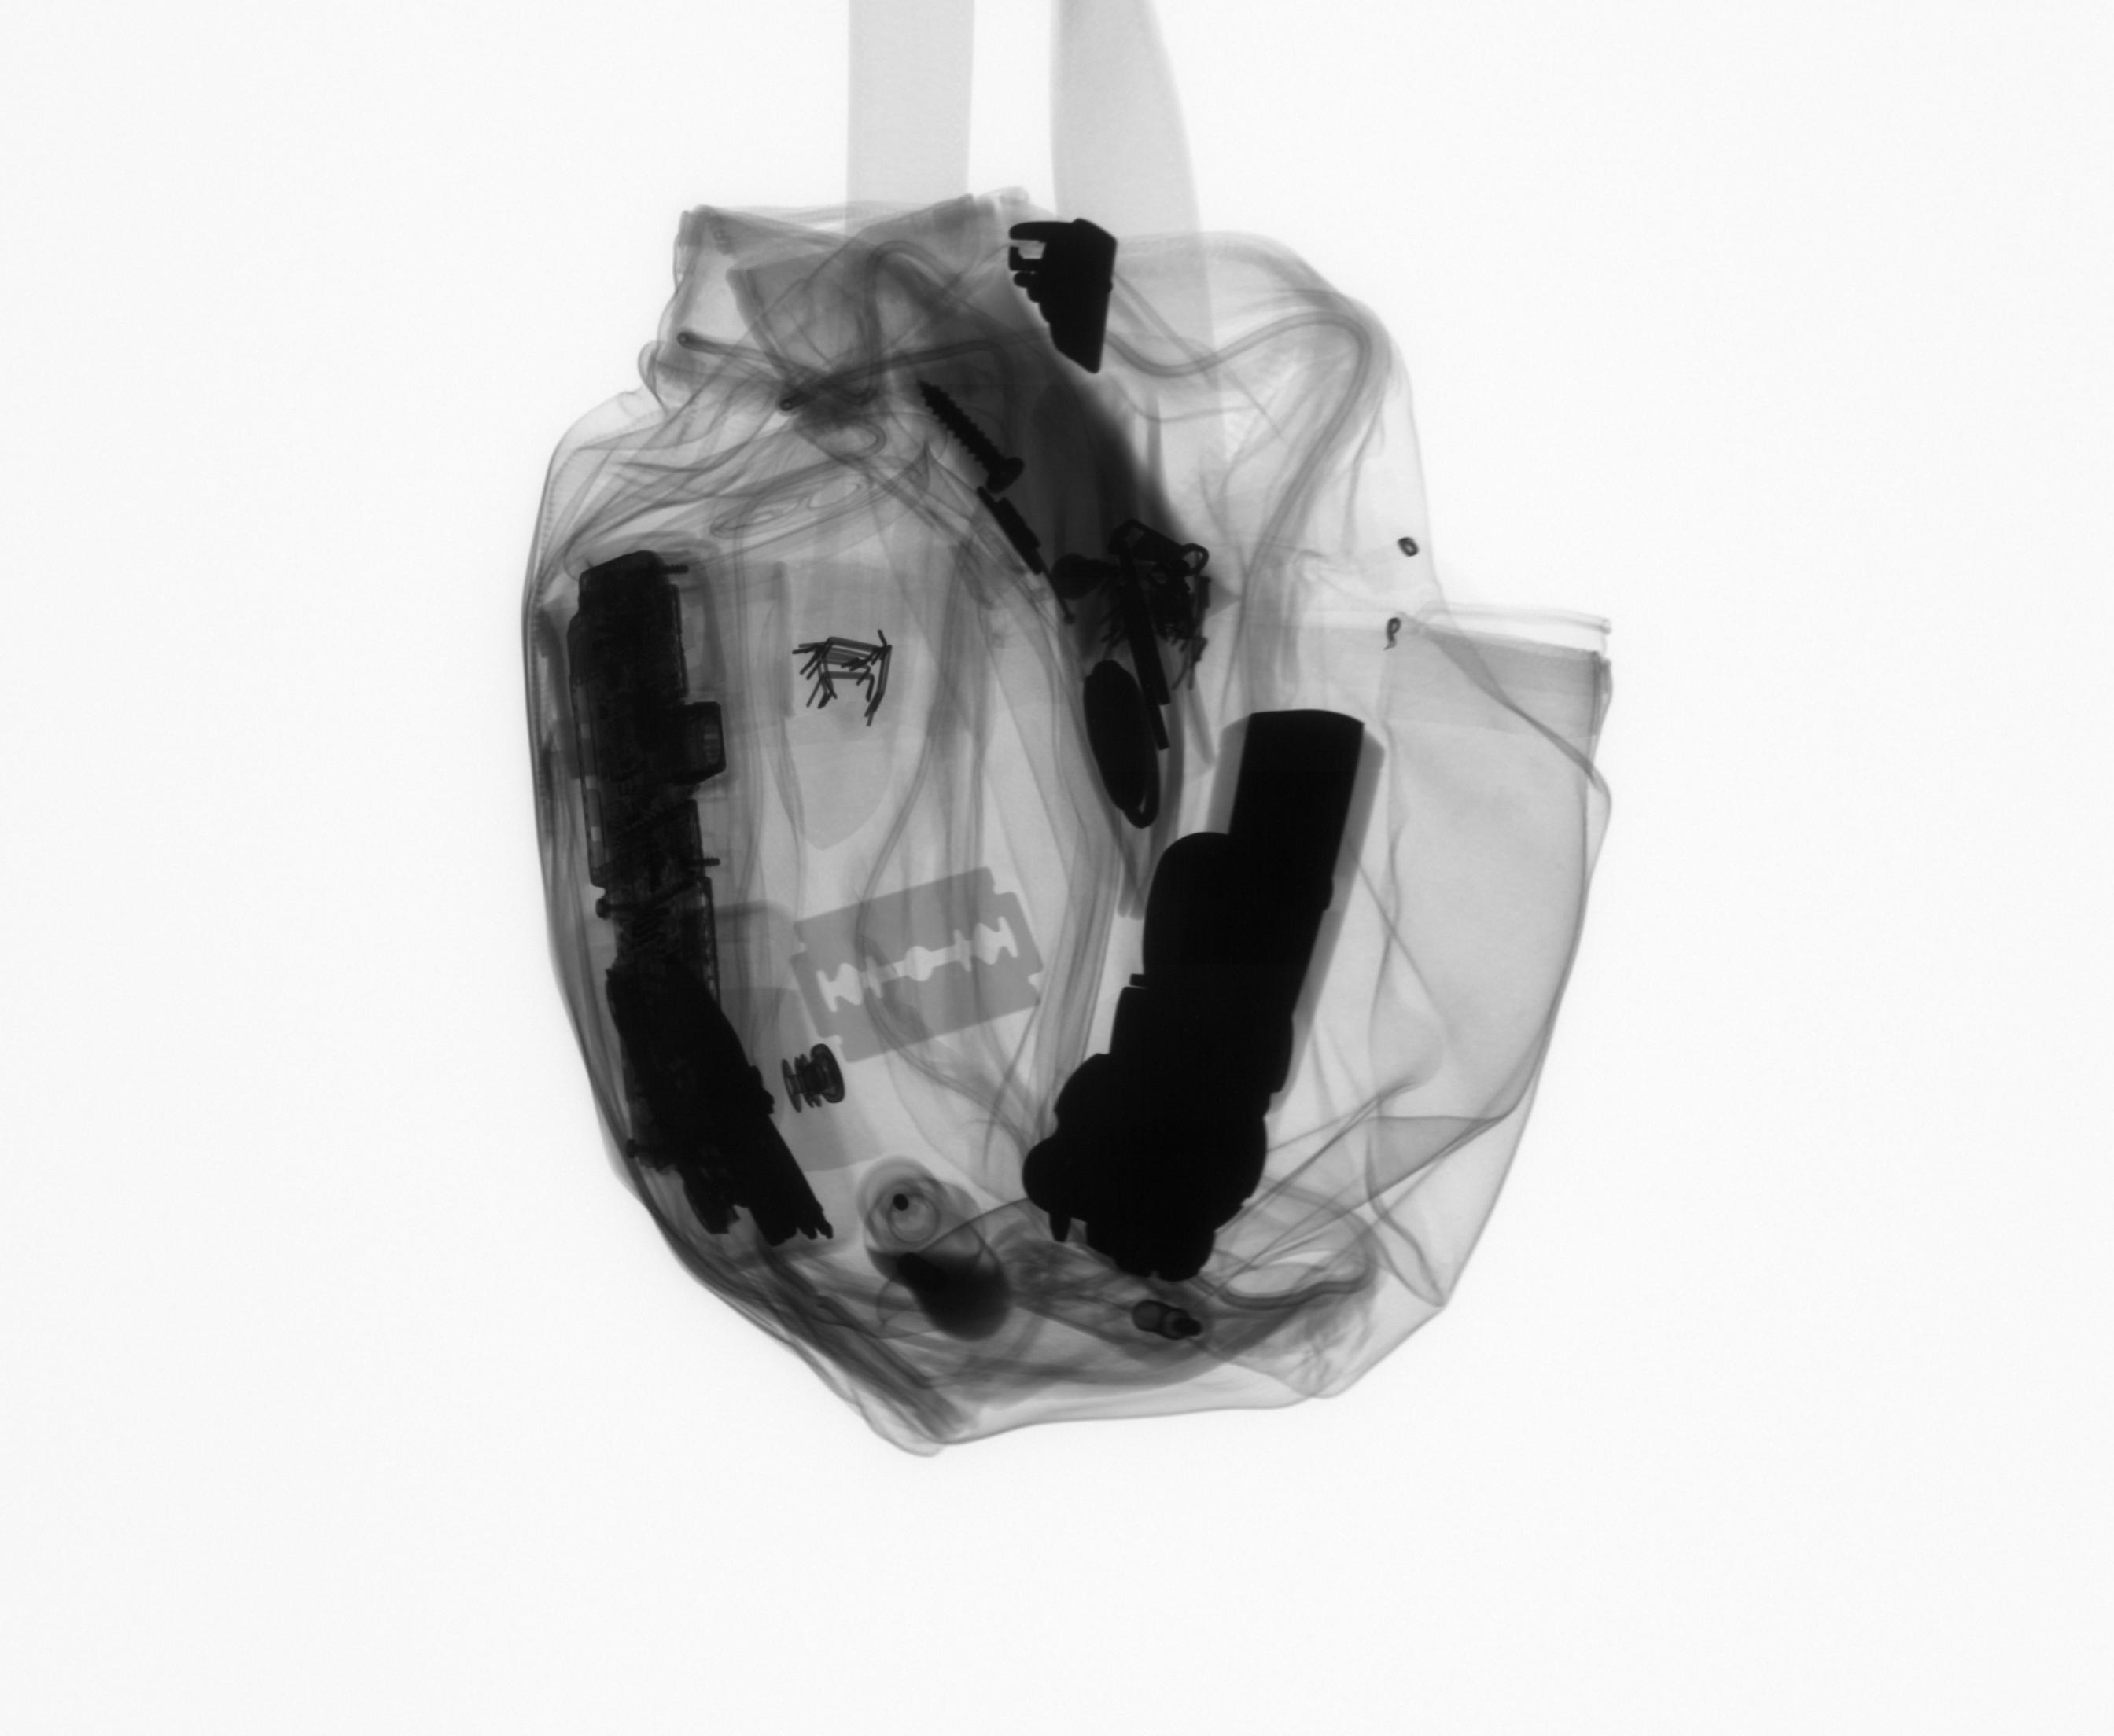Handgun: (1015, 700, 1391, 1294)
RazorBlade: (783, 855, 1052, 1074)
